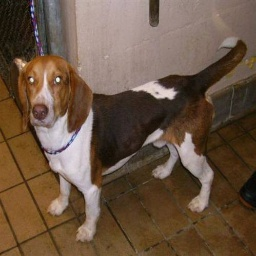dog: (20, 37, 242, 229)
